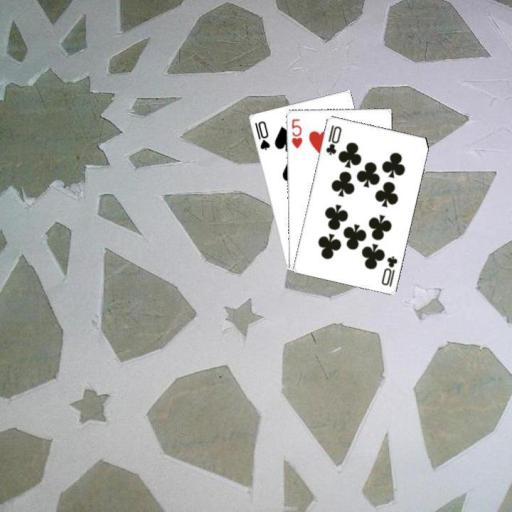10C: (378, 252, 399, 288), (322, 122, 343, 157)
10S: (251, 118, 271, 152)
5H: (288, 116, 303, 150)
